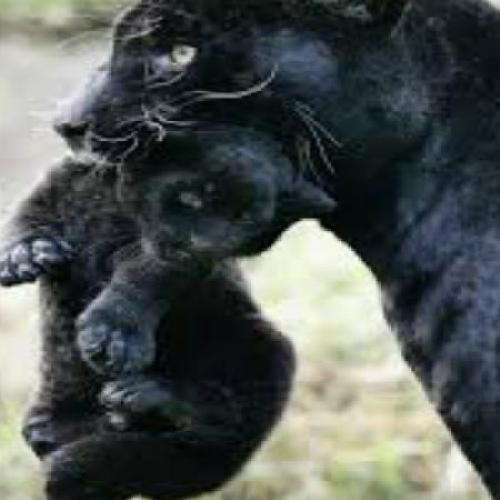panther-endangered: (72, 0, 500, 356), (8, 131, 324, 479)
